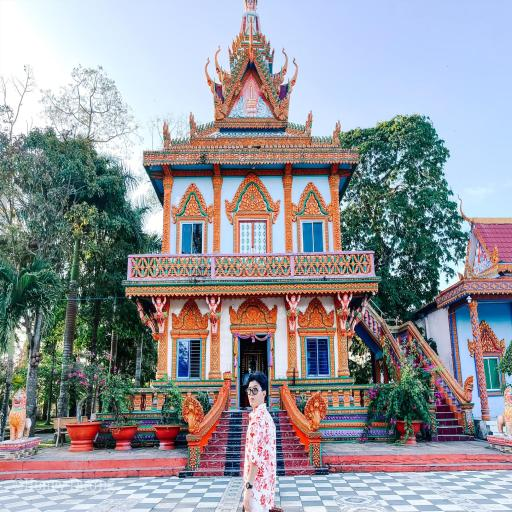lua: (202, 54, 224, 98), (281, 57, 300, 97), (212, 43, 230, 82), (272, 44, 288, 83), (248, 12, 256, 66)
ran: (300, 386, 330, 440), (180, 390, 205, 440), (209, 88, 228, 128), (328, 116, 346, 152), (299, 106, 318, 140), (158, 117, 176, 151), (276, 89, 294, 122), (270, 66, 285, 101), (186, 111, 200, 141), (231, 37, 237, 58), (268, 45, 276, 59), (227, 44, 233, 62), (264, 37, 270, 52), (262, 38, 268, 52), (239, 30, 244, 46), (236, 33, 240, 50), (242, 26, 246, 38), (260, 31, 264, 42), (255, 28, 259, 38), (262, 32, 266, 40)
than: (202, 291, 224, 334), (348, 293, 368, 338), (133, 296, 156, 335), (149, 294, 171, 334), (281, 292, 303, 332), (328, 290, 348, 332), (240, 0, 260, 16), (346, 306, 358, 328), (148, 309, 156, 326)
